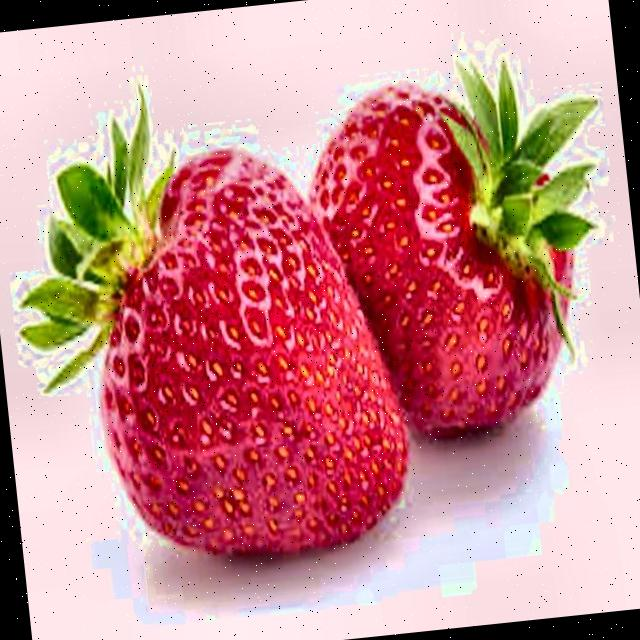strawberry: (22, 91, 407, 553), (310, 62, 597, 438)
